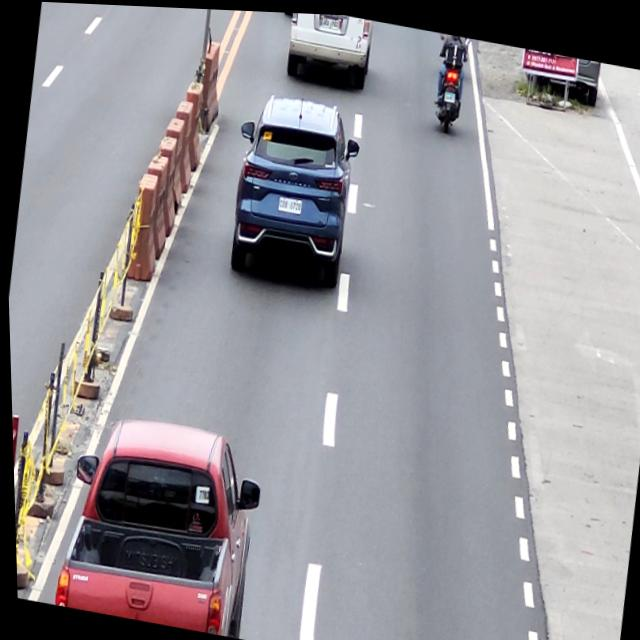Car: (45, 404, 269, 639), (218, 88, 366, 291), (284, 10, 376, 87)
License-Plate: (276, 193, 302, 211), (320, 14, 340, 30), (442, 86, 455, 99)
Motorcycle: (428, 29, 473, 128)
